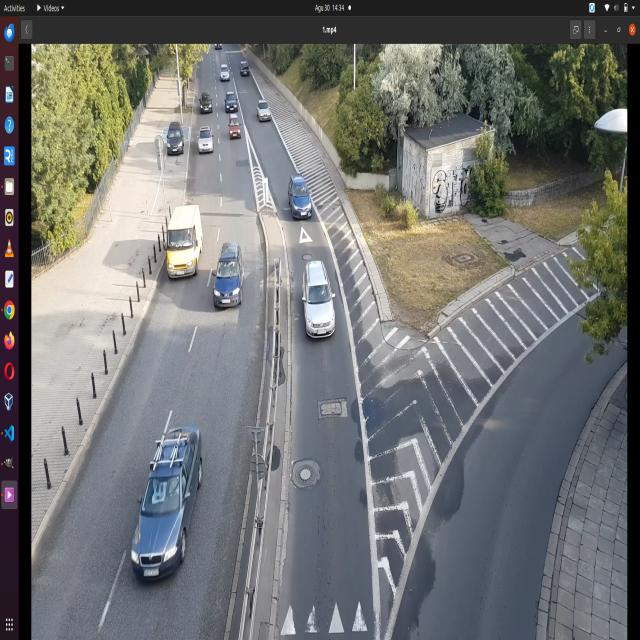person_with_seatbelt: (169, 474, 187, 500), (319, 283, 329, 301)
person_without_seatbelt: (149, 474, 166, 505)
